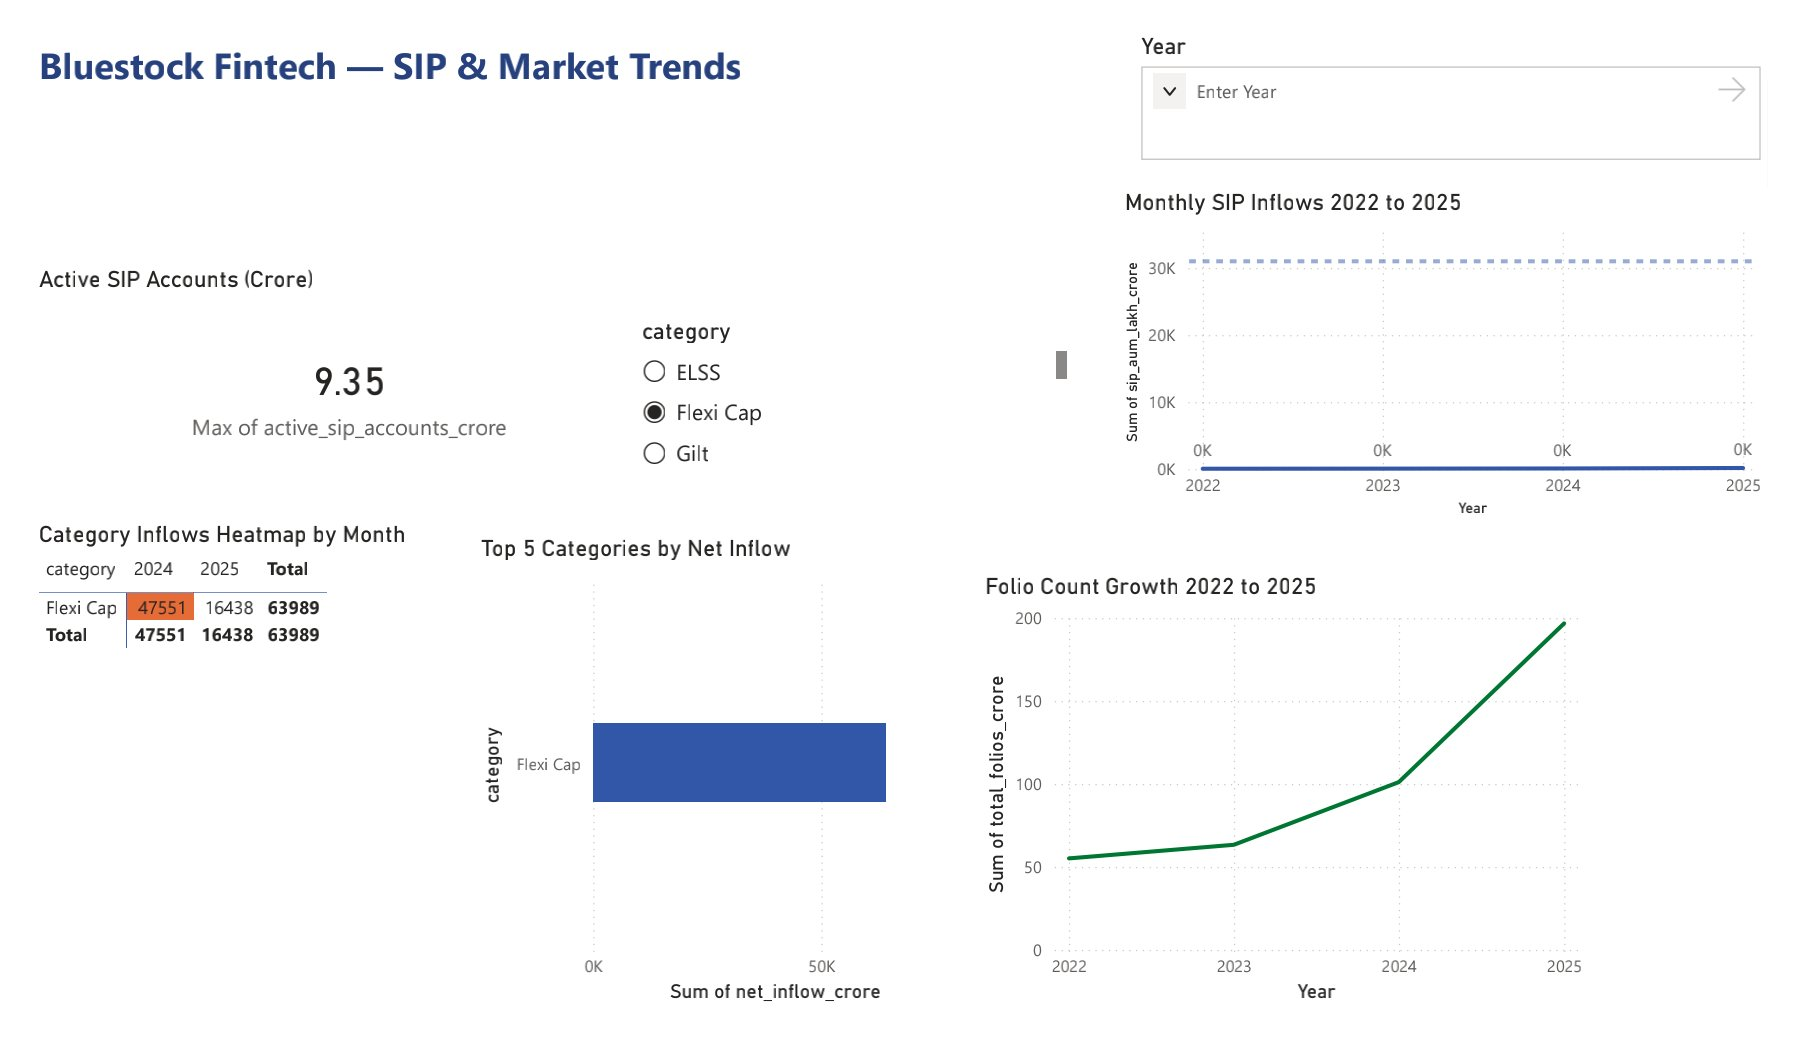

What the dashboard file says about the page in this screenshot:
{"tool":"powerbi","page":{"name":"SIP & Market Trends","canvas":[1280,720],"ordinal":3},"visuals":[{"type":"lineChart","title":"Monthly SIP Inflows 2022 to 2025","fields":{"Category":["clean_monthly_sip_inflows.month.Variation.Date Hierarchy.Year","clean_monthly_sip_inflows.month.Variation.Date Hierarchy.Quarter","clean_monthly_sip_inflows.month.Variation.Date Hierarchy.Month","clean_monthly_sip_inflows.month.Variation.Date Hierarchy.Day"],"Y":["Sum(clean_monthly_sip_inflows.sip_aum_lakh_crore)"]},"box":[801.4,115.5,478.9,245.1],"z":0},{"type":"pivotTable","title":"Category Inflows Heatmap by Month","fields":{"Rows":["clean_category_inflows.category"],"Columns":["clean_category_inflows.month.Variation.Date Hierarchy.Year","clean_category_inflows.month.Variation.Date Hierarchy.Quarter","clean_category_inflows.month.Variation.Date Hierarchy.Month","clean_category_inflows.month.Variation.Date Hierarchy.Day"],"Values":["Sum(clean_category_inflows.net_inflow_crore)"]},"box":[0,360,348,360],"z":1000},{"type":"clusteredBarChart","title":"Top 5 Categories by Net Inflow","fields":{"Category":["clean_category_inflows.category"],"Y":["Sum(clean_category_inflows.net_inflow_crore)"]},"box":[326,370,372,350],"z":2000},{"type":"card","title":"Active SIP Accounts (Crore)","fields":{"Values":["Max(clean_monthly_sip_inflows.active_sip_accounts_crore)"]},"box":[0,172,468,168],"z":3000},{"type":"lineChart","title":"Folio Count Growth 2022 to 2025","fields":{"Category":["clean_industry_folio_count.month.Variation.Date Hierarchy.Year","clean_industry_folio_count.month.Variation.Date Hierarchy.Quarter","clean_industry_folio_count.month.Variation.Date Hierarchy.Month","clean_industry_folio_count.month.Variation.Date Hierarchy.Day"],"Y":["Sum(clean_industry_folio_count.total_folios_crore)"]},"box":[698,398,450,322],"z":4000},{"type":"textSlicer","fields":{"Values":["clean_monthly_sip_inflows.month.Variation.Date Hierarchy.Year"]},"box":[812.7,0,467.6,98.6],"z":5000},{"type":"listSlicer","fields":{"Values":["clean_category_inflows.category"]},"box":[445.1,209.9,322.5,115.5],"z":6000},{"type":"textbox","box":[0,0,580.3,71.8],"z":6001}]}

Visuals, with their boxes in screenshot pixels (x1, y1, x2, y2), scaled from the page's 1280x720 canvas onto the 1800x1041 screenshot:
"Monthly SIP Inflows 2022 to 2025" lineChart: l=1127, t=167, r=1799, b=521
"Category Inflows Heatmap by Month" pivotTable: l=0, t=520, r=489, b=1040
"Top 5 Categories by Net Inflow" clusteredBarChart: l=458, t=535, r=982, b=1040
"Active SIP Accounts (Crore)" card: l=0, t=249, r=658, b=492
"Folio Count Growth 2022 to 2025" lineChart: l=982, t=575, r=1614, b=1040
textSlicer - clean_monthly_sip_inflows.month.Variation.Date Hierarchy.Year: l=1143, t=0, r=1799, b=143
listSlicer - clean_category_inflows.category: l=626, t=303, r=1079, b=470
textbox: l=0, t=0, r=816, b=104
